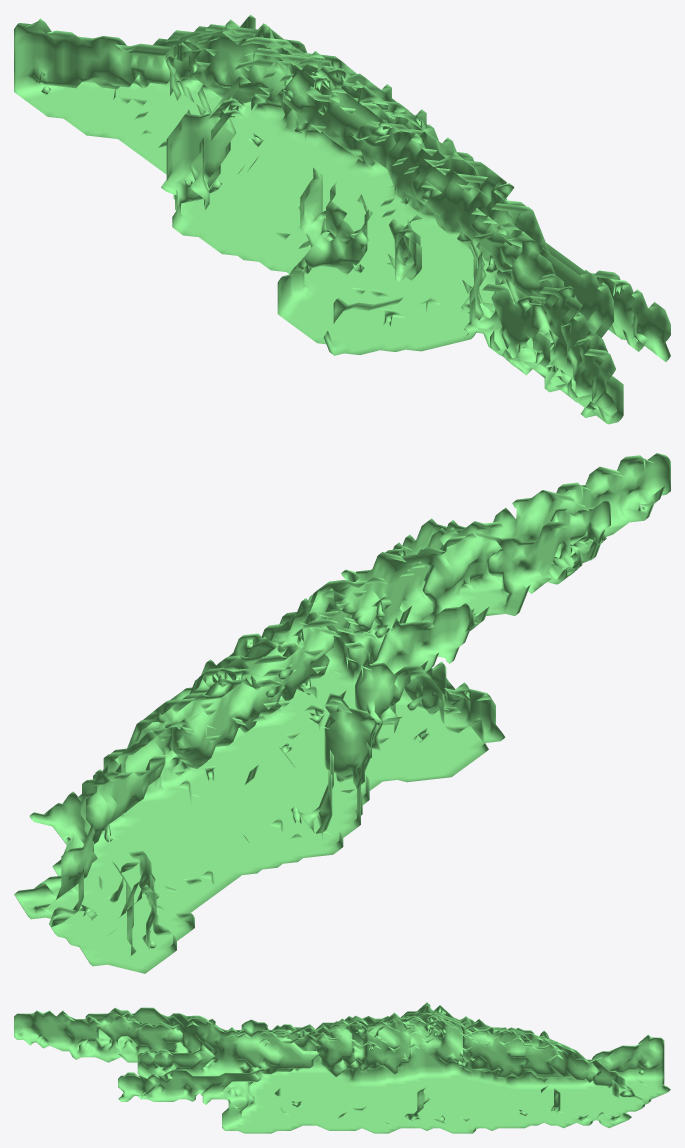
Rendered from osteocyte_14.glb.
3 renders of one model, top to bottom at view 1: azimuth 30°, elevation 25°; view 2: azimuth 150°, elevation 25°; view 3: azimuth 270°, elevation 25°, orthographic. The views are drawn at different scales.
Visible parts, largest first — view 1: osteocyte_14; view 2: osteocyte_14; view 3: osteocyte_14.
Part boxes in pixels (x1,y1,x2,y2): osteocyte_14: [14, 14, 670, 424]; osteocyte_14: [14, 453, 670, 973]; osteocyte_14: [14, 1002, 670, 1133].
Bounding box in the file's own units: 12.04 × 7.22 × 48.63.
